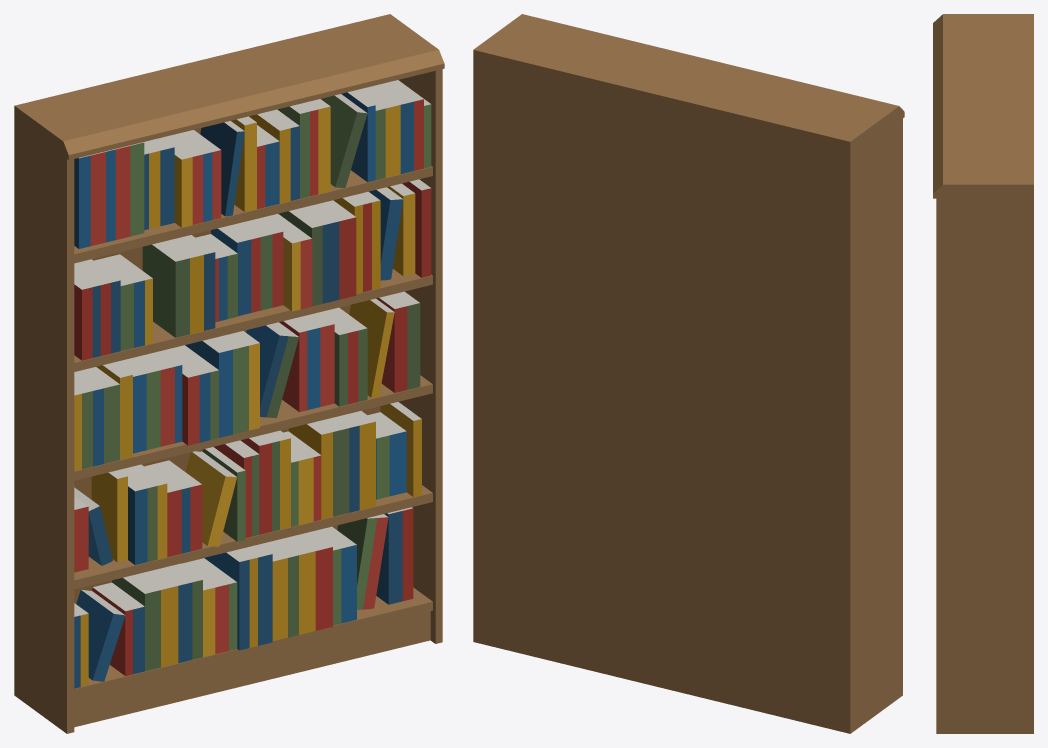
File: library-shelf-run-570904.glb
3 renders of one model, left to right at view 1: azimuth 30°, elevation 25°; view 2: azimuth 150°, elevation 25°; view 3: azimuth 270°, elevation 25°, orthographic. The views are drawn at different scales.
Parts seen in each view (by area): view 1: carcass; view 2: carcass; view 3: carcass.
Boxes of the visible parts, box(x1,y1,x2,y2) form: carcass: box(14, 14, 444, 733); carcass: box(473, 14, 904, 733); carcass: box(933, 14, 1033, 733).
Bounding box in the file's own units: 1 × 1.5 × 0.2499.
